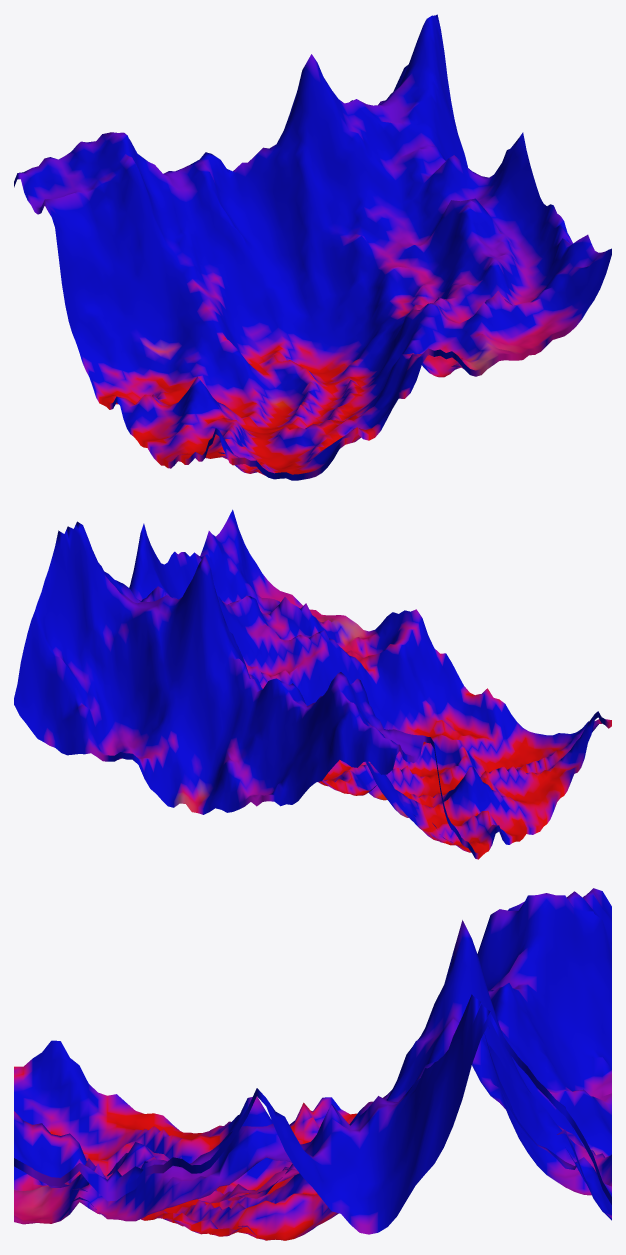
File: chunk_0_0.glb
3 views of the same model, one above another, from view 1: azimuth 30°, elevation 25°; view 2: azimuth 150°, elevation 25°; view 3: azimuth 270°, elevation 25° (orthographic). The views are drawn at different scales.
Parts seen in each view (by area): view 1: LOD0; view 2: LOD0; view 3: LOD0.
Boxes of the visible parts, x1=… form: LOD0: x1=14, y1=14, x2=611, y2=480; LOD0: x1=14, y1=509, x2=611, y2=859; LOD0: x1=14, y1=888, x2=611, y2=1240.
Size of what is drawn, in the model's own units: 256 by 188 by 256.
